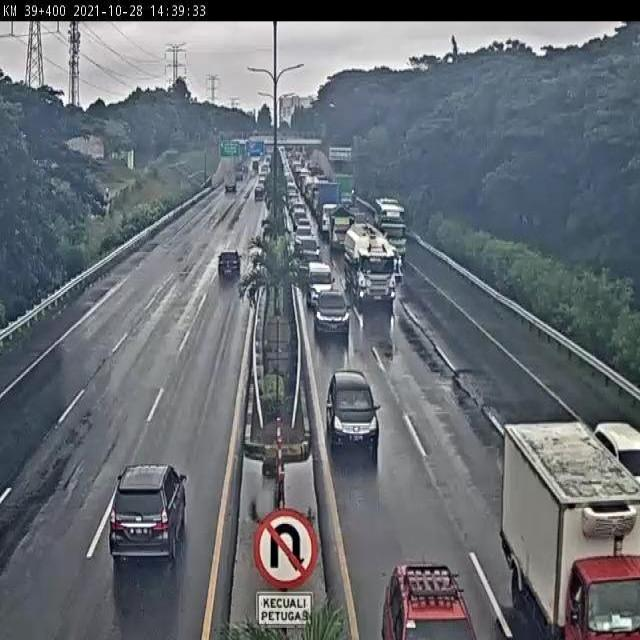big bus: (371, 200, 408, 248)
big truck: (488, 405, 640, 640), (342, 229, 401, 315)
car: (84, 458, 202, 574), (382, 542, 478, 640), (322, 362, 374, 446), (594, 392, 640, 477), (305, 281, 351, 335), (212, 244, 248, 287), (302, 256, 331, 299), (296, 237, 325, 260)
